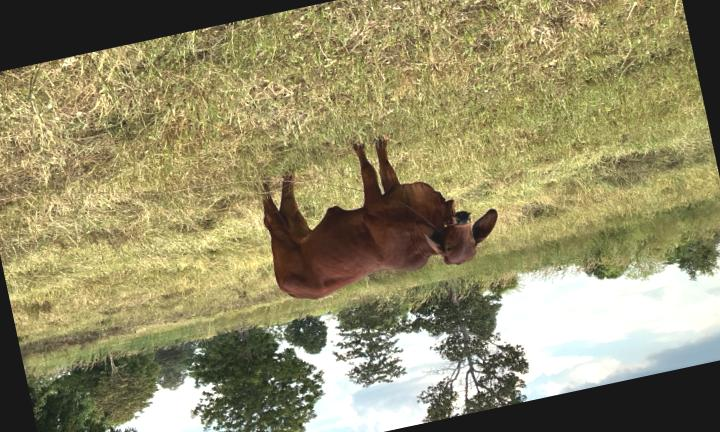Brahman: (264, 137, 498, 299)
